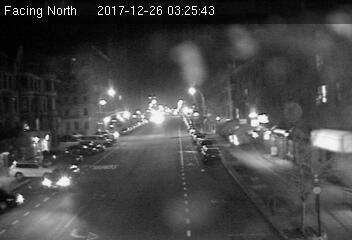car: (39, 164, 79, 190), (201, 145, 223, 163)
